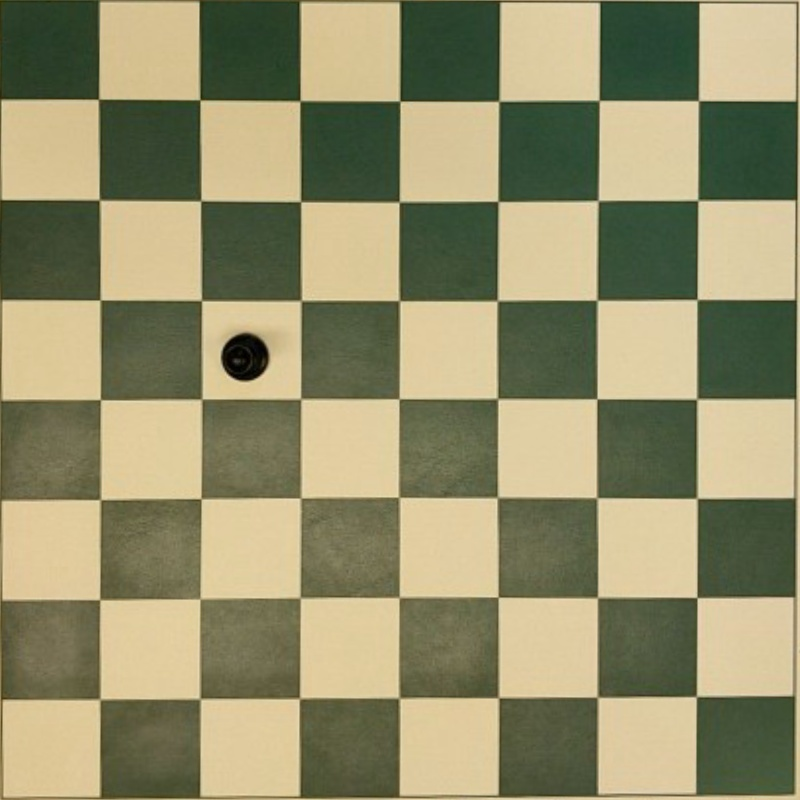black-pawn: (220, 332, 270, 381)
